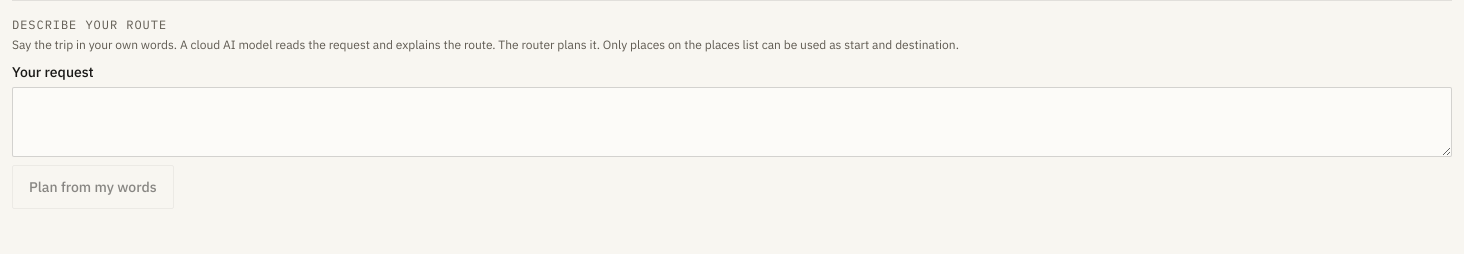
it: describe a route in plain words › shows the honest offline message from the server
In the text box labelled "Your request": {"x": 732, "y": 122} top-left (12, 87), bottom-right (1452, 157), type "Route to Grand Central"
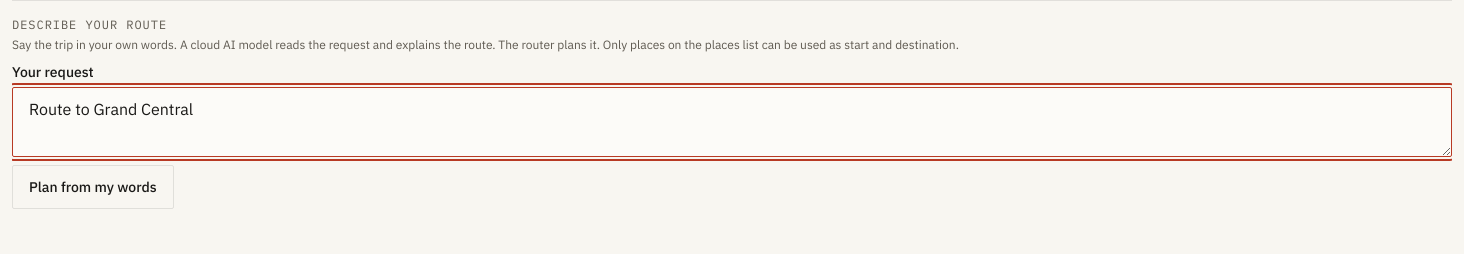
Click the button "Plan from my words": {"x": 93, "y": 187} top-left (12, 165), bottom-right (174, 209)
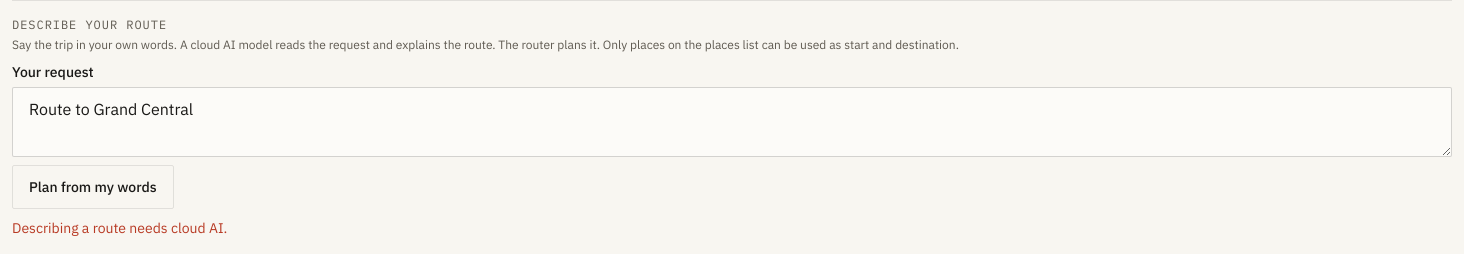
Expected: the message reads "Describing a route needs cloud AI.", top-left (12, 219), bottom-right (227, 237)
